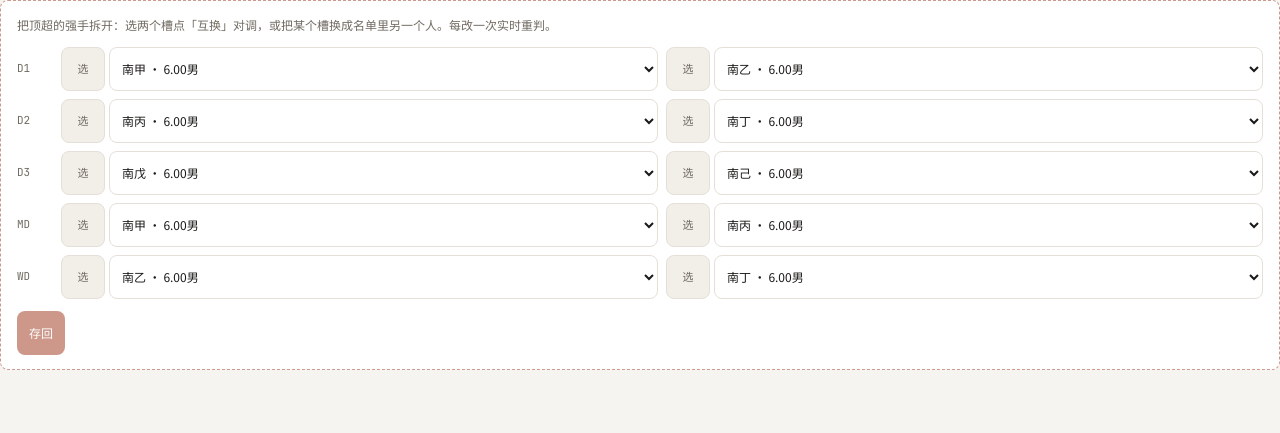
Test case: LineupEditor live legality (debounced) › renders the returned violation when the edit is illegal
Select "p7" in the dropdown named "D1 第1人": point(384, 68) [109, 46, 658, 90]
Wait 350 ms
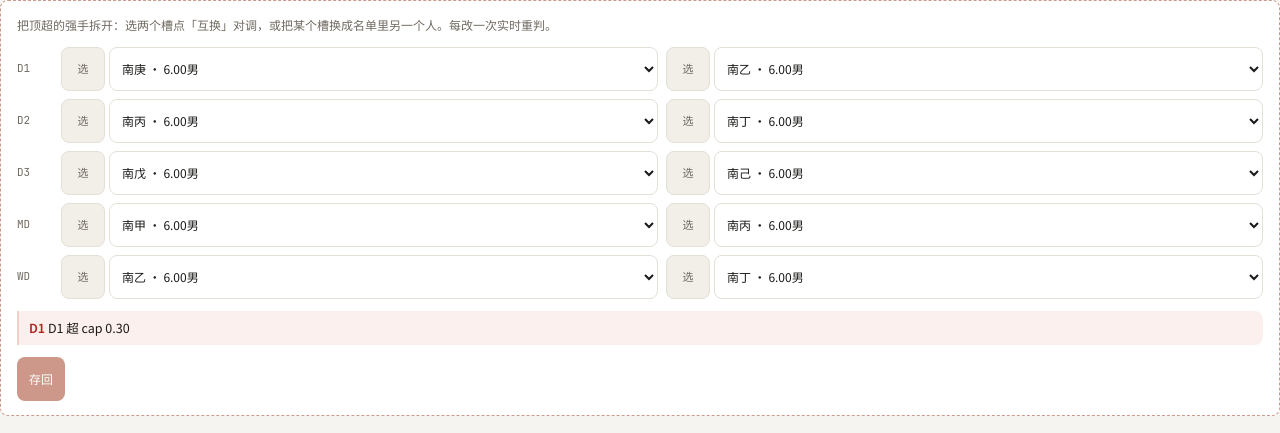
Expected: the button "存回" is disabled, [17, 357, 65, 401]
Expected: the list item "D1 D1 超 cap 0.30" is shown, [17, 310, 1263, 345]
